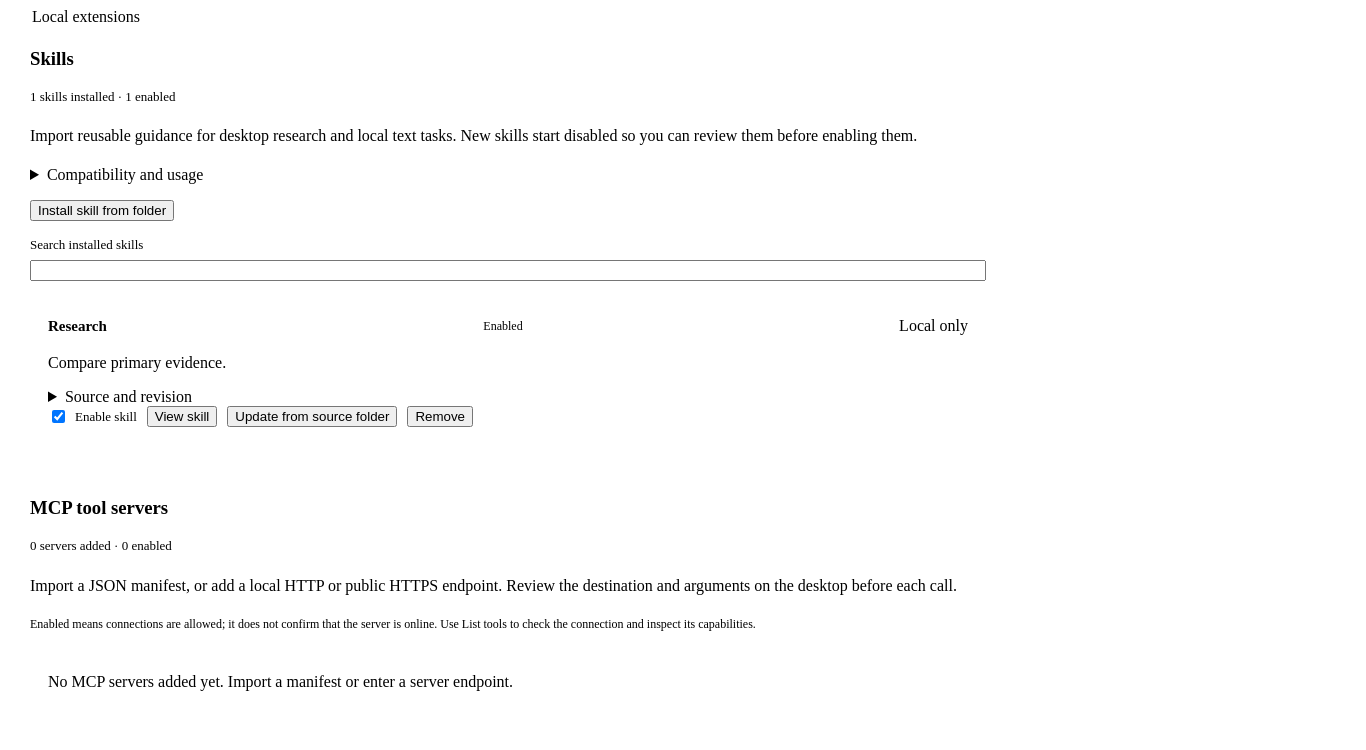
discards an opened old snapshot after updating and requires explicit re-enablement
The image size is (1366, 750).
Click the button "View skill". click: (182, 417)
box: [147, 406, 217, 427]
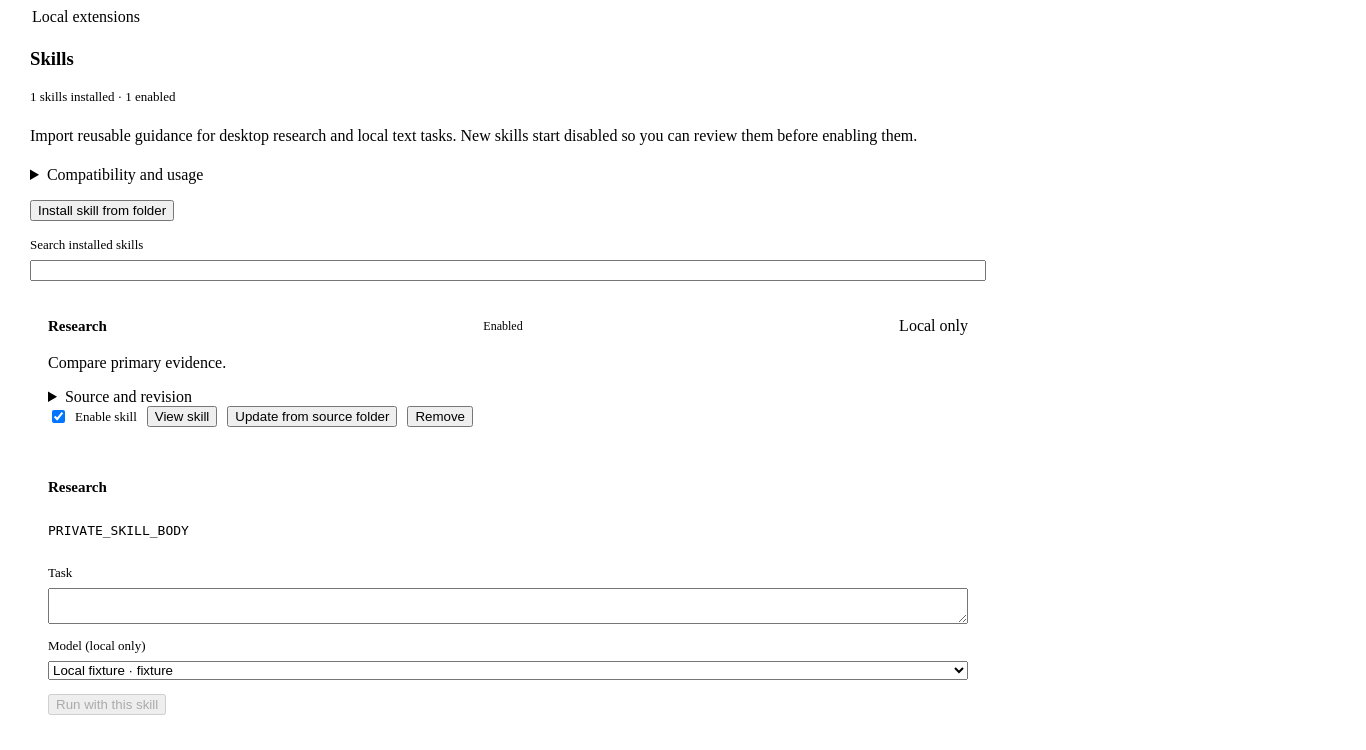
Expected: the text "PRIVATE_SKILL_BODY" is shown, [48, 523, 189, 538]
Click the button "Update from source folder". click: (312, 417)
box: [227, 406, 397, 427]
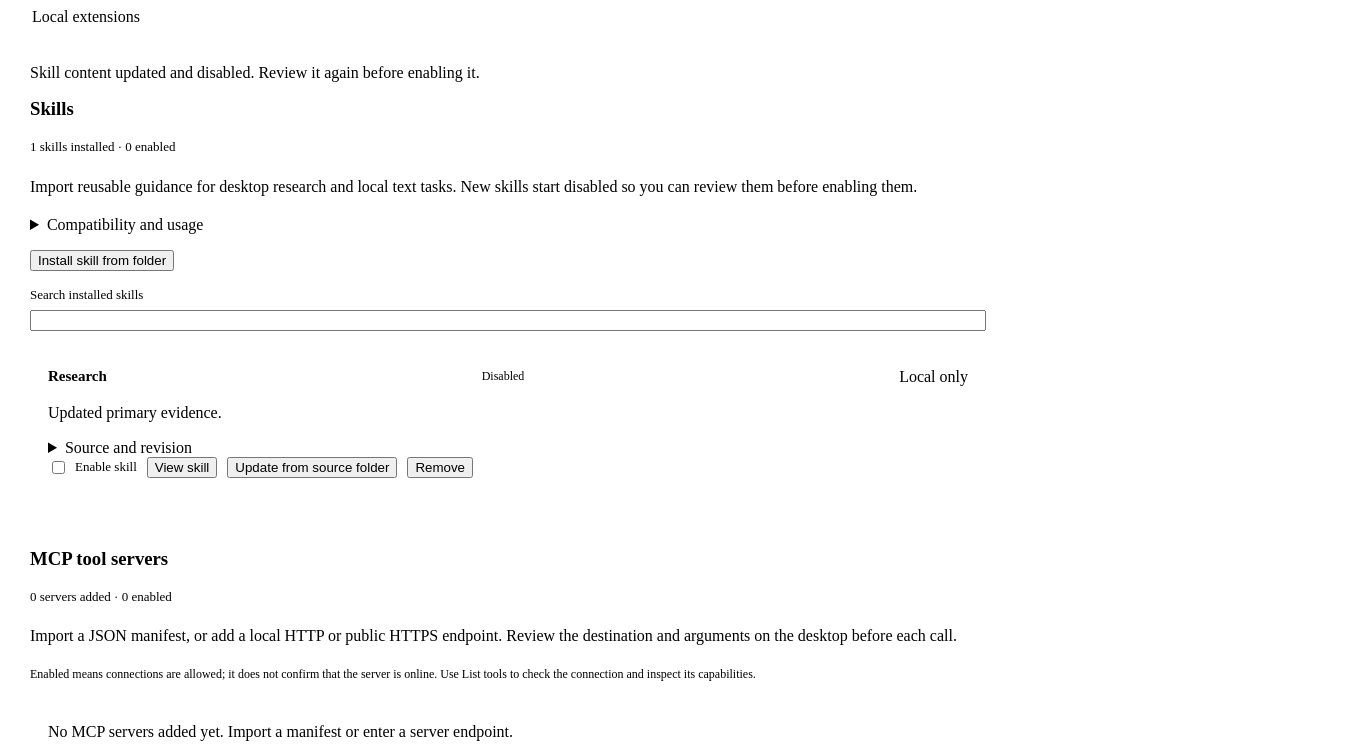
Expected: the text "Skill content updated and disabled. Review it again before enabling it." is shown, [30, 64, 480, 81]
Expected: the text "PRIVATE_SKILL_BODY" is gone
Expected: the checkbox labelled "Enable skill" is not checked, [52, 461, 65, 474]
Click the button "View skill". click: (182, 467)
box: [147, 457, 217, 478]
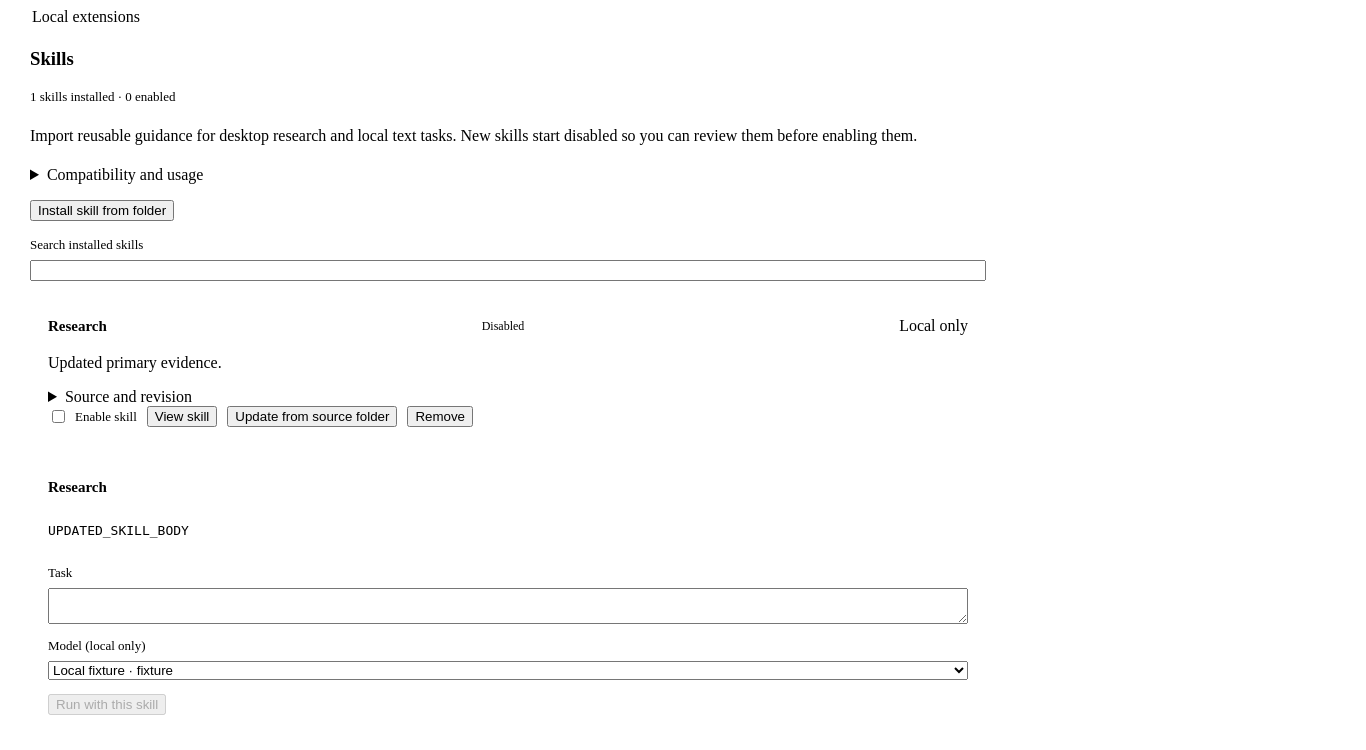
Expected: the text "UPDATED_SKILL_BODY" is shown, [48, 523, 189, 538]
Type "Use this reference." into the text box labelled "Task". click: (508, 606)
box: [48, 588, 968, 624]
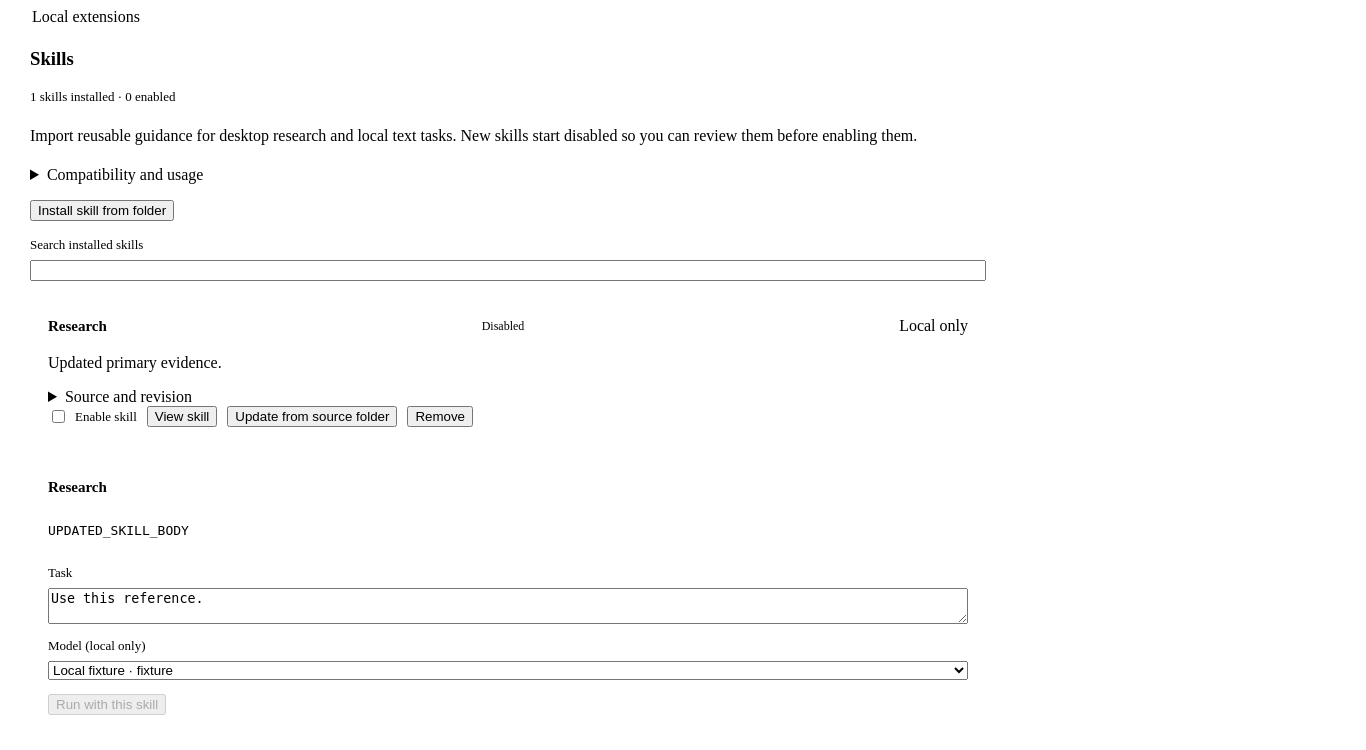
Expected: the button "Run with this skill" is disabled, [48, 694, 166, 715]
Click the checkbox labelled "Enable skill". click: (58, 417)
box: [52, 410, 65, 423]
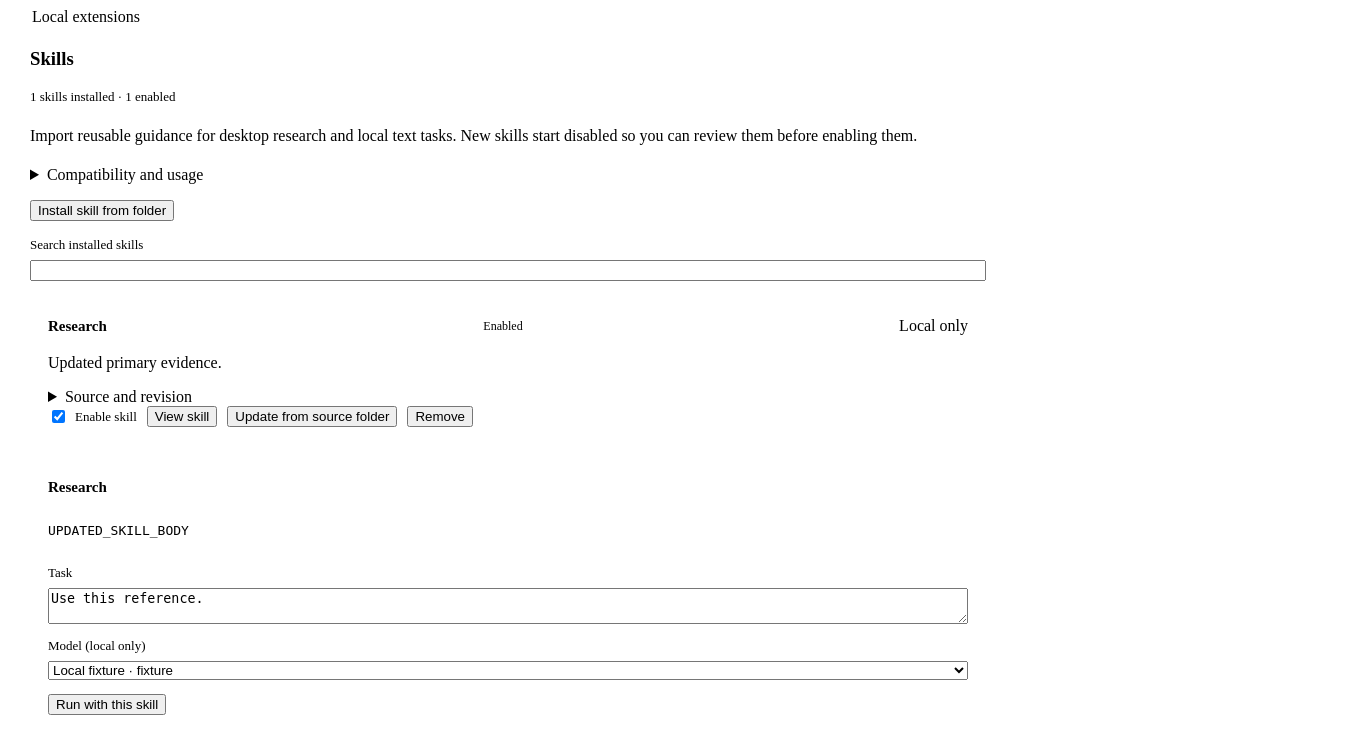
Expected: the button "Run with this skill" is enabled, [48, 694, 166, 715]
